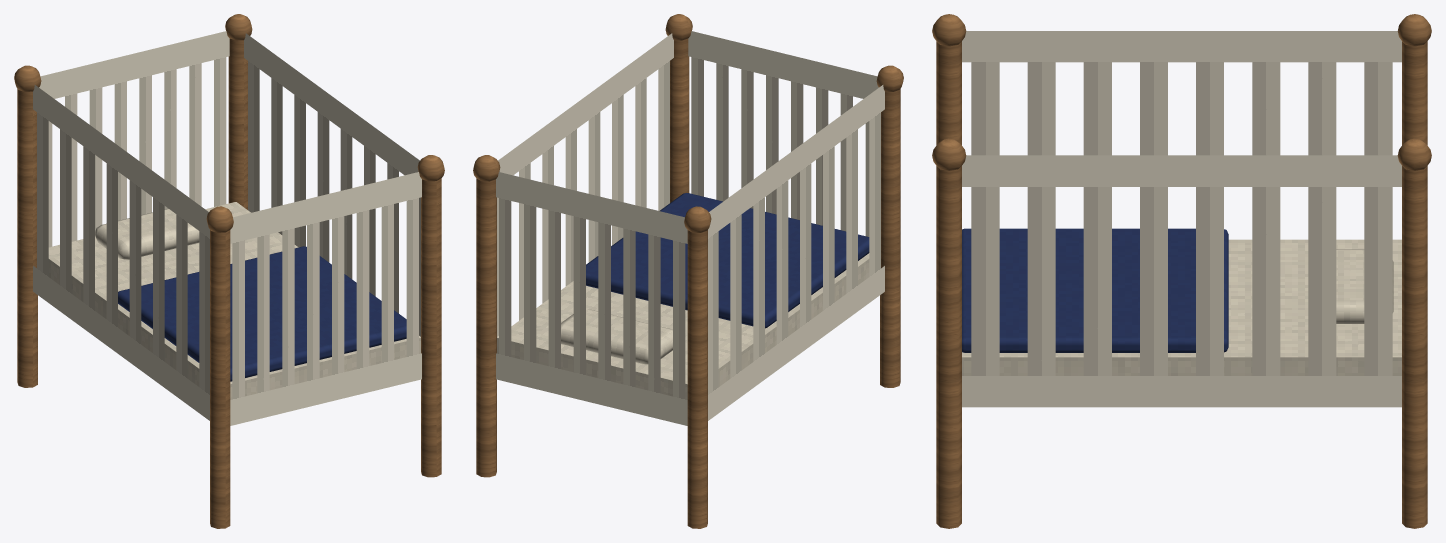
Rendered from crib.glb.
The picture shows the model from 3 angles, left to right: view 1: azimuth 30°, elevation 25°; view 2: azimuth 150°, elevation 25°; view 3: azimuth 270°, elevation 25°; orthographic projection. The views are drawn at different scales.
Visible parts, largest first — view 1: crib; view 2: crib; view 3: crib.
Part boxes in pixels (x1,y1,x2,y2): crib: (14, 14, 444, 528); crib: (473, 14, 903, 528); crib: (932, 14, 1431, 528).
Bounding box in the file's own units: 0.7701 × 0.9904 × 1.17.
Materials: 4 (4 with a texture image).
